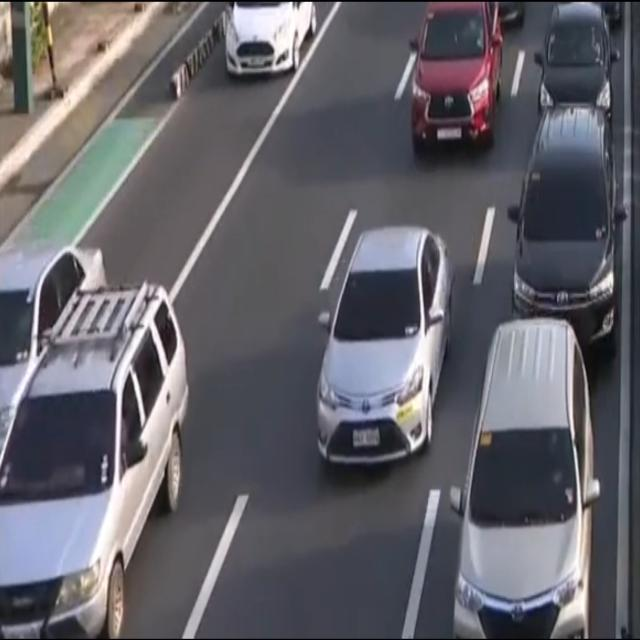SUV: (0, 282, 192, 640), (449, 322, 603, 640), (508, 101, 622, 350), (408, 0, 511, 157), (536, 0, 623, 124)
Sedan: (316, 232, 452, 473), (0, 238, 114, 477), (221, 0, 316, 79)
